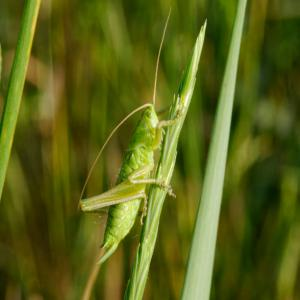locust: (73, 57, 192, 273)
